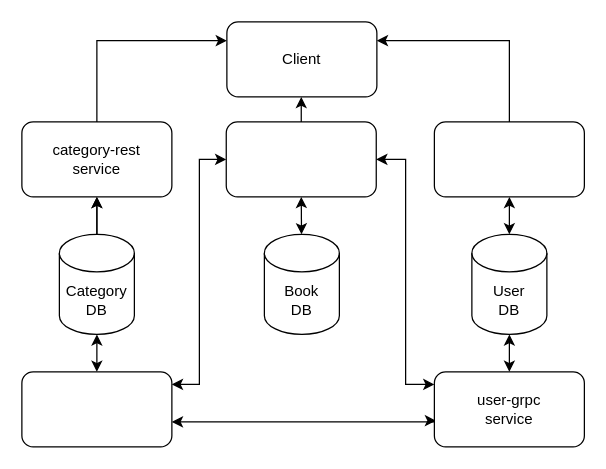
The diagram is 606 pixels wide and 469 high, and some of its shapes have lost their labels. Here are the shapes that lost their labels. From the top down, the centre of each, then its label:
At [300,159]: "book-rest service".
At [508,159]: "user-rest service".
At [96,409]: "category-grpc service".
